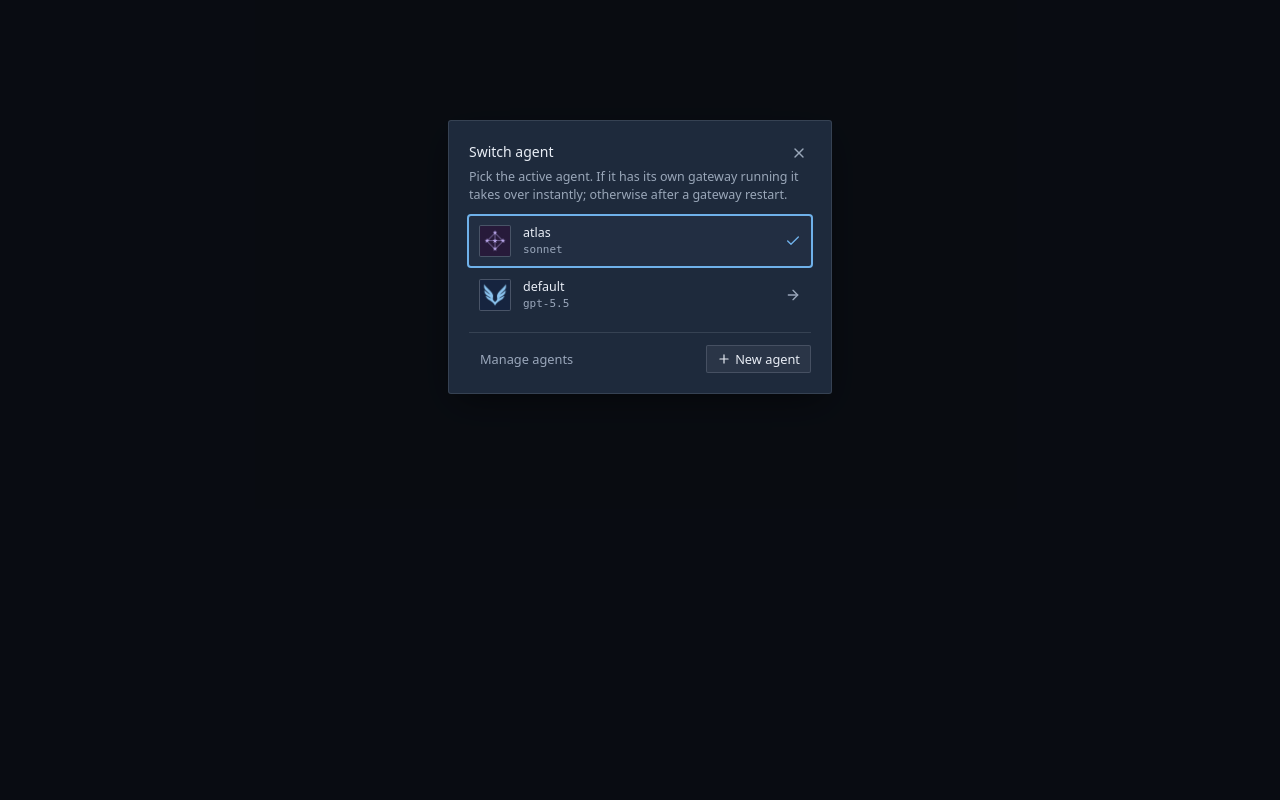
Test: ProfileSwitcher › switching a non-active agent shows the honest restart action and re-probed state
Click the button "default gpt-5.5" at [495, 295], box [469, 270, 811, 320]
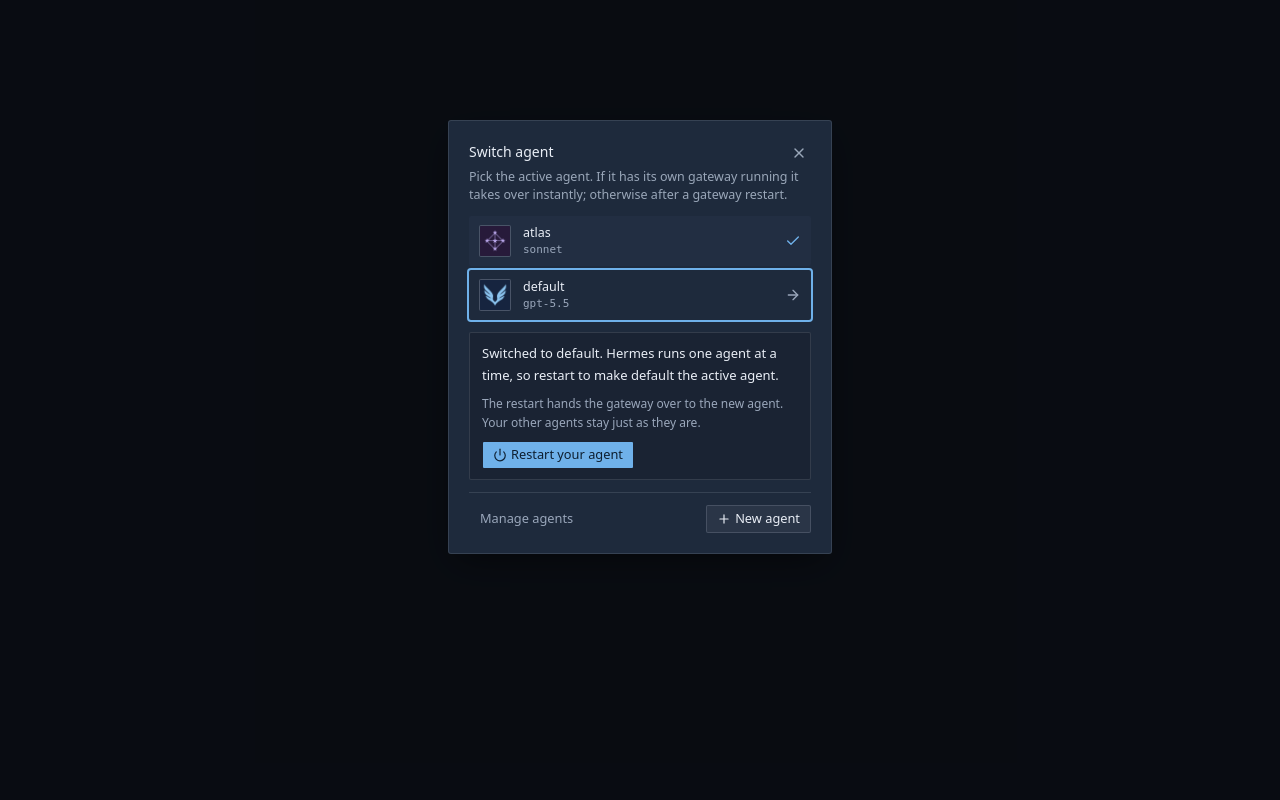
Now the text "one agent at a time" is shown, box [482, 344, 779, 384]
Click the button "Restart your agent" at [558, 455], box [482, 441, 634, 469]
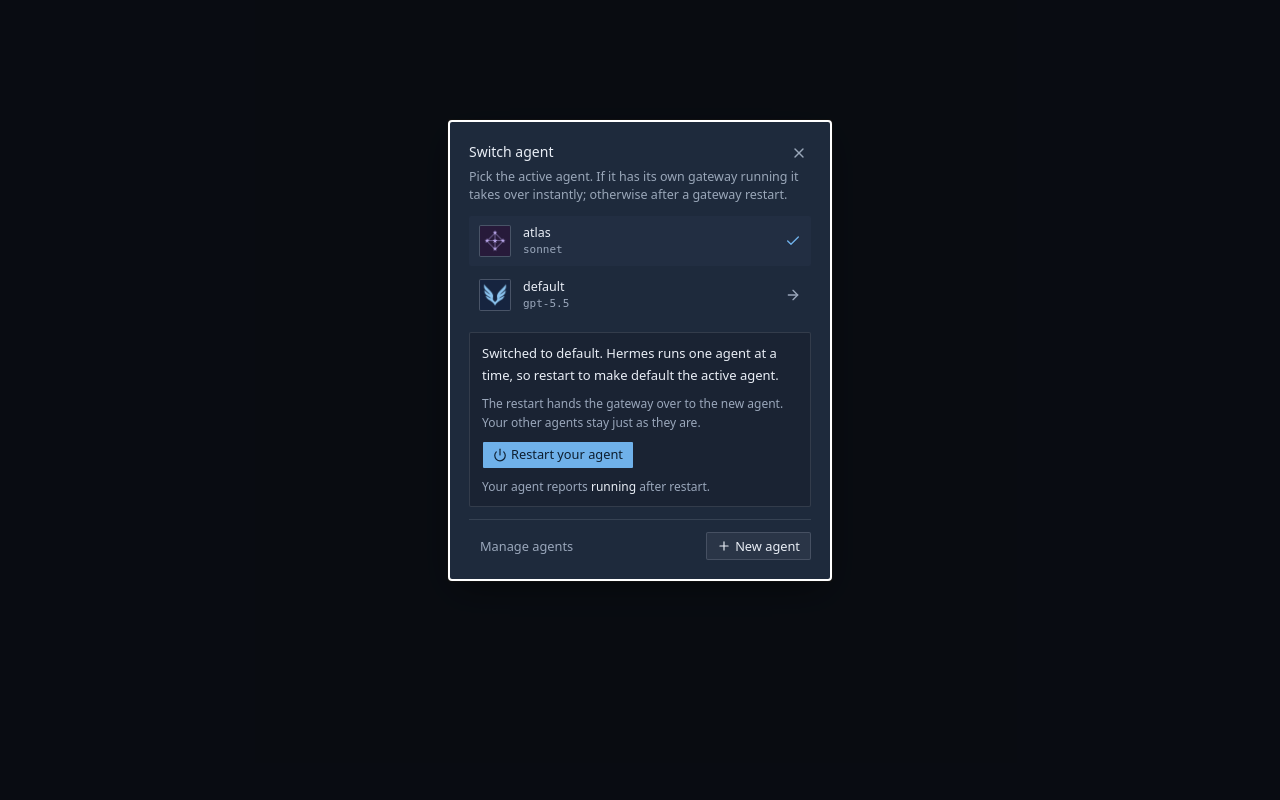
Now the text "Your agent reports running after restart." is shown, box [482, 477, 710, 496]
